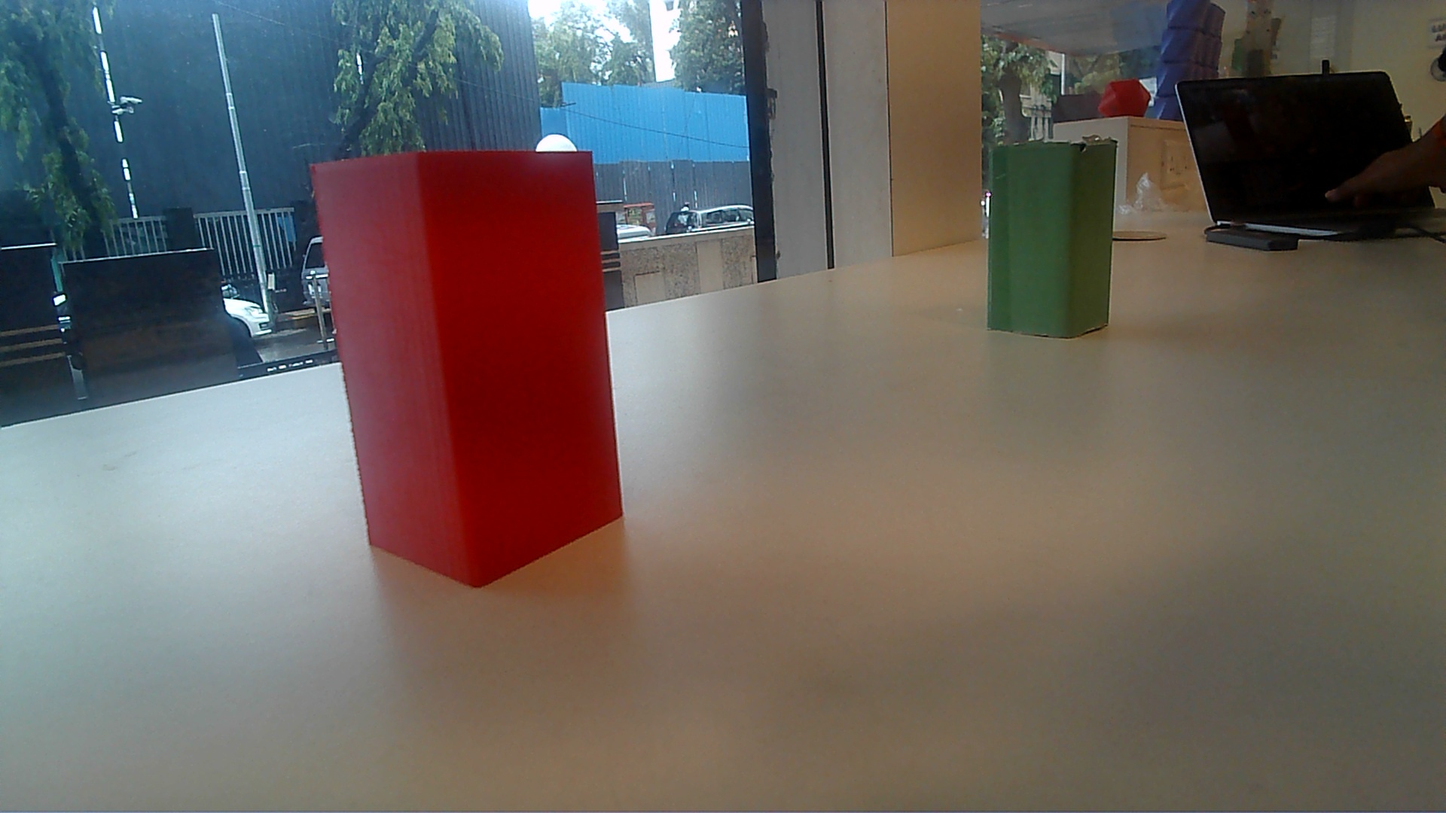green: (987, 132, 1122, 342)
